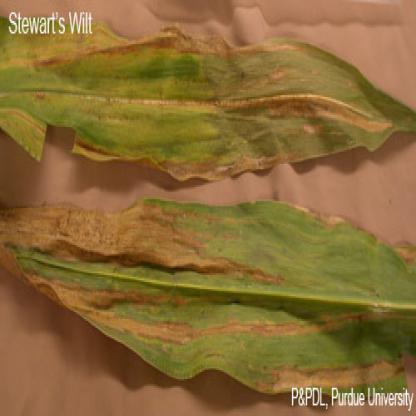corn leaf blight: (2, 197, 409, 388), (3, 28, 415, 180)
